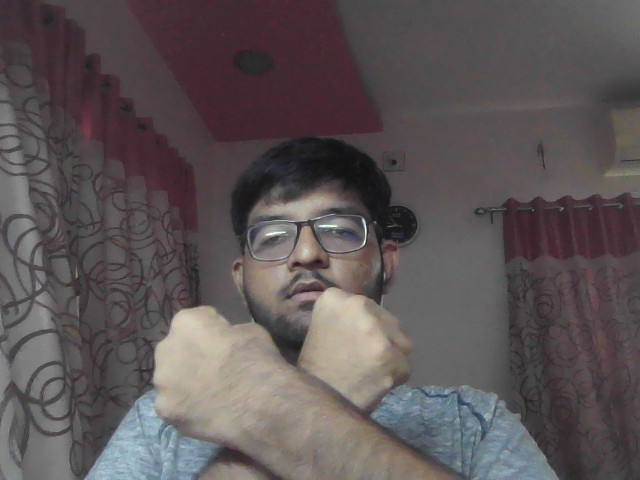પ્રેમ: (114, 279, 473, 479)
